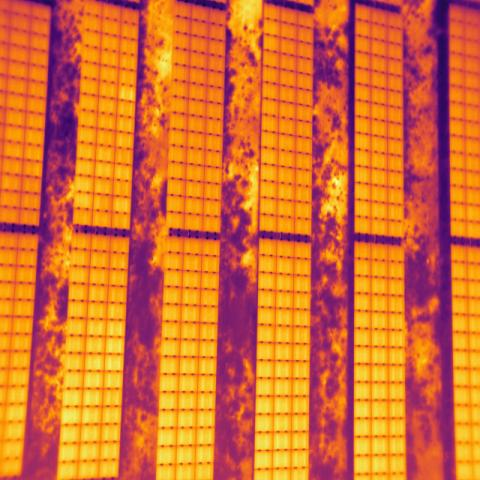fault: (118, 85, 137, 103)
